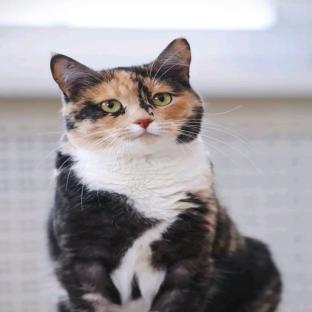Animal: (47, 38, 282, 312)
